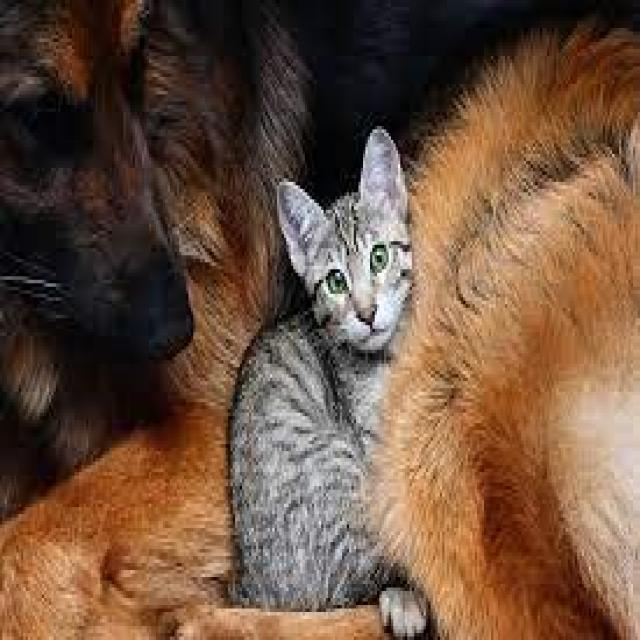Cat: (224, 121, 427, 640)
